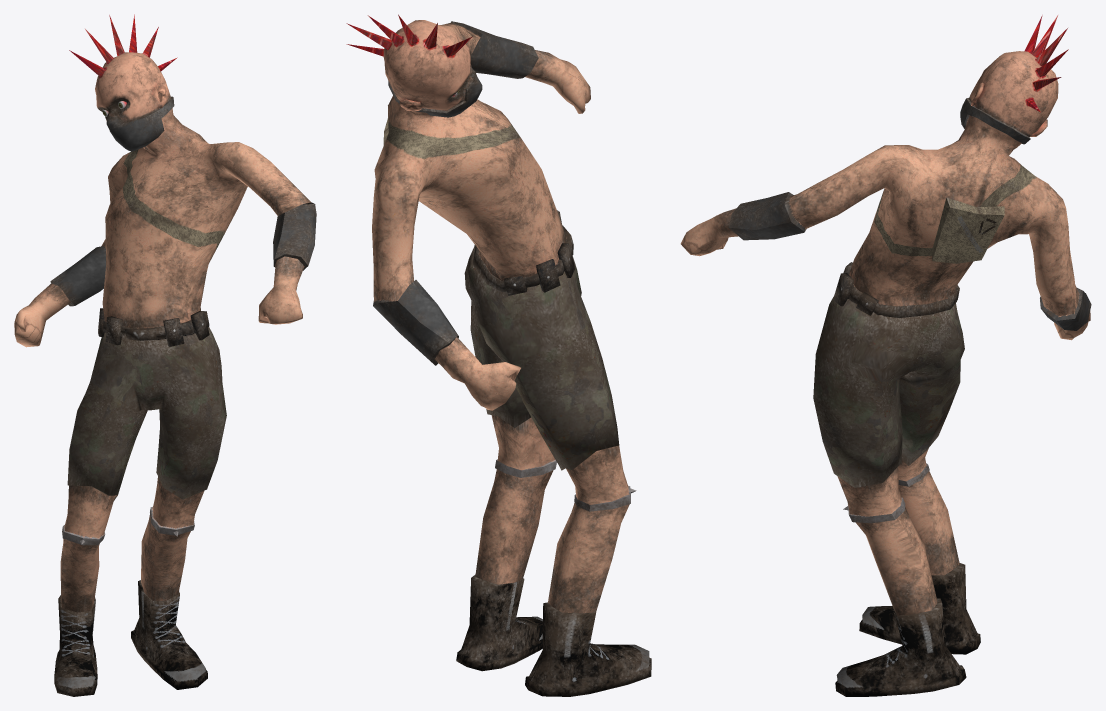
The model's file is Anim_recibirdanyo_1_npc2.0019.obj.
3 views of the same model, side by side, from view 1: azimuth 30°, elevation 25°; view 2: azimuth 150°, elevation 25°; view 3: azimuth 270°, elevation 25° (orthographic). The views are drawn at different scales.
Visible parts, largest first — view 1: polySurface1; view 2: polySurface1; view 3: polySurface1.
Boxes of the visible parts, x1=… form: polySurface1: x1=14, y1=14, x2=316, y2=696; polySurface1: x1=346, y1=14, x2=651, y2=696; polySurface1: x1=680, y1=15, x2=1091, y2=696.
Bounding box in the file's own units: 3.55 × 9.29 × 5.14.
2 materials, 2 textured.
